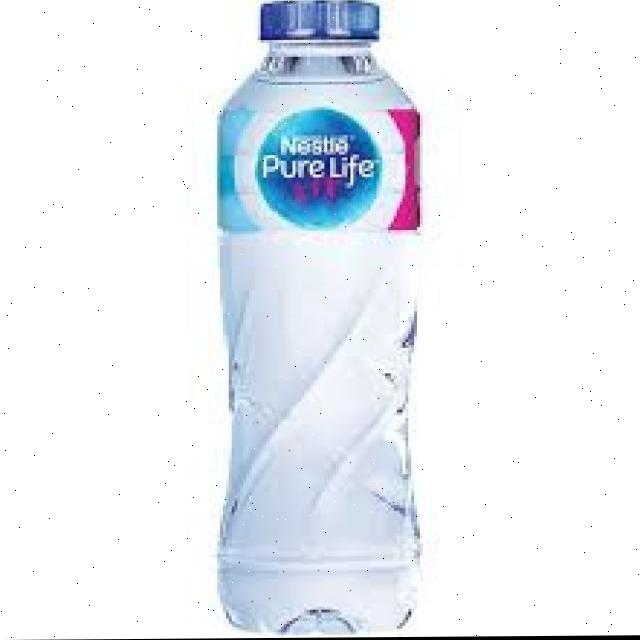bottle: (153, 0, 484, 639)
